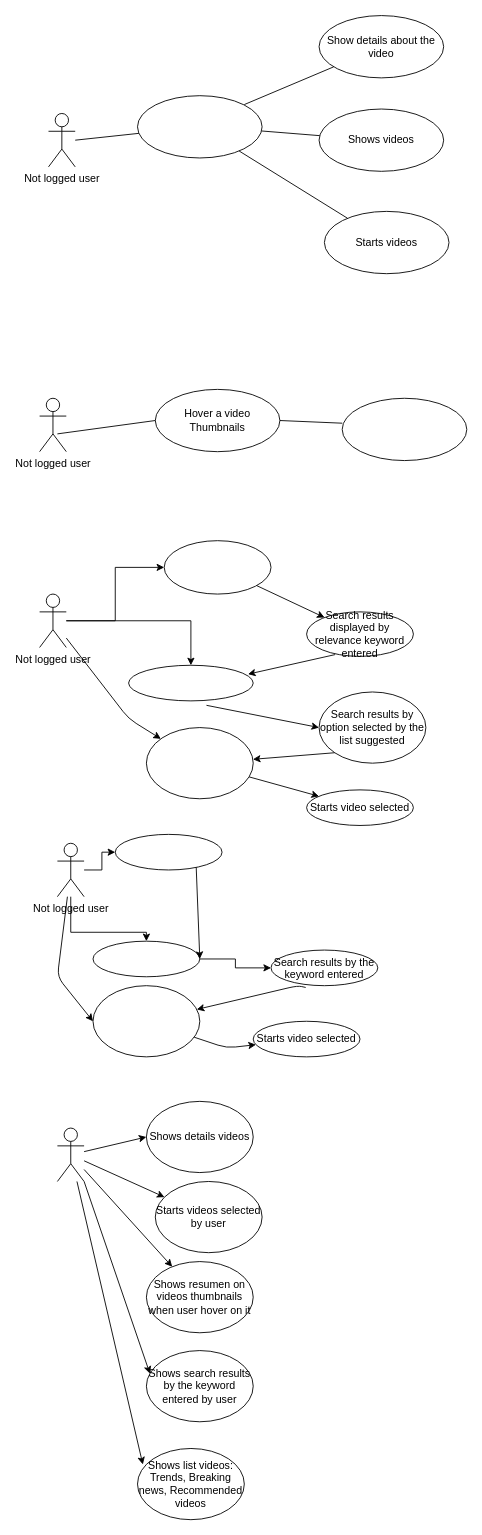
Some shapes in this 482 by 1535 pixel diagram are drawn without their labels. The shapes that lost their labels are listed below. From the top down, each one's centre as x and y in pixels, then its label:
point 199,126: Select Videos: Trends, Breaking News, Recommended
point 404,429: Shows a resume by the Thumbnails
point 217,567: Enter keyword on Search field
point 190,682: Select any option from the list suggested
point 199,763: Select any option video result
point 168,851: Enter a keyword on search field
point 146,958: Pressed search button
point 146,1021: Select any option from video results
point 70,1154: Youtube app
